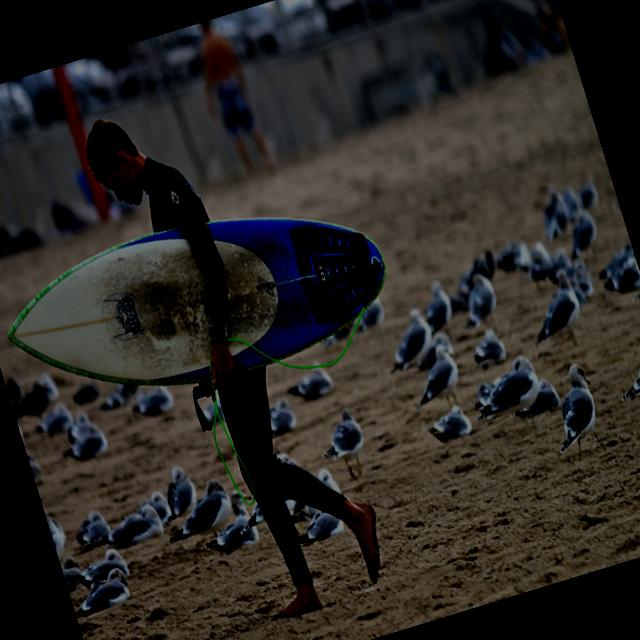Vehicle: (135, 0, 330, 88), (64, 24, 206, 111), (0, 57, 101, 148), (260, 0, 374, 46), (0, 75, 42, 160), (328, 0, 422, 26)
